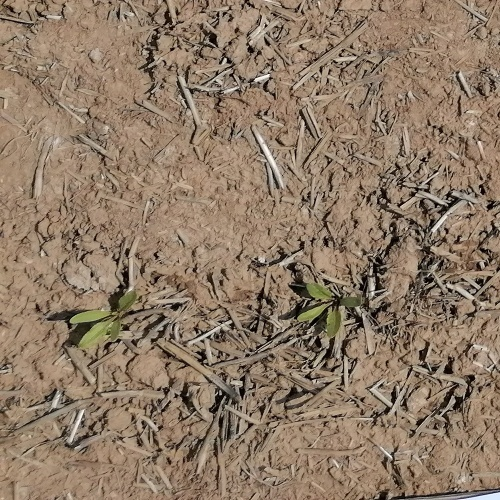beet: (65, 286, 140, 353), (291, 277, 364, 339)
